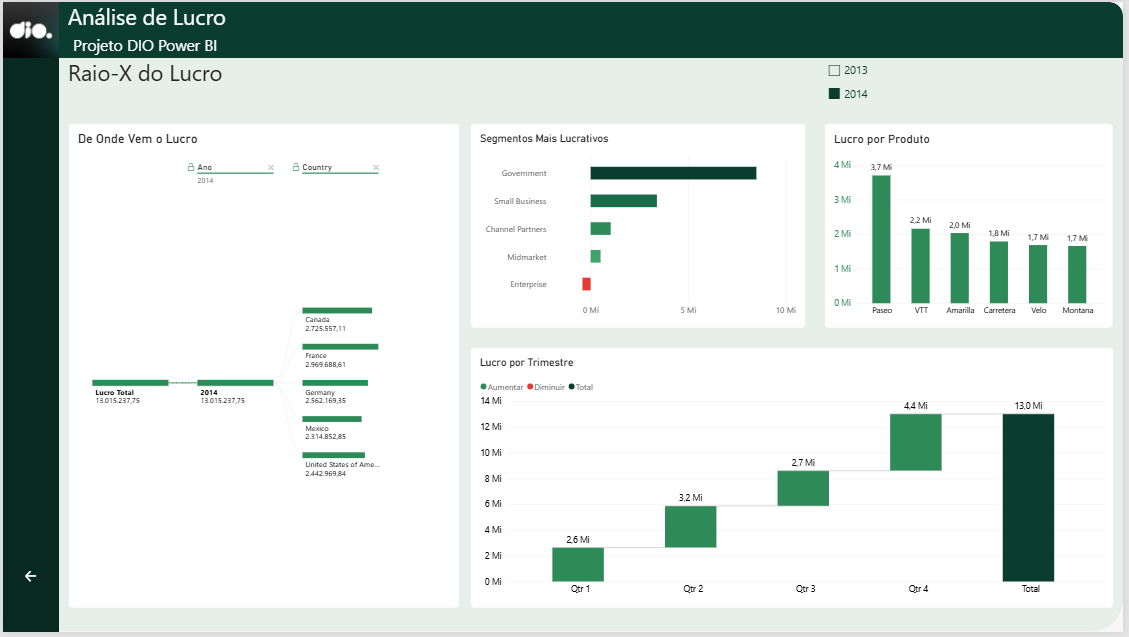

Layout of this report page (visuals, bound fields, positions):
{"tool":"powerbi","page":{"name":"Lucro","canvas":[1920,1080],"ordinal":1},"visuals":[{"type":"shape","box":[0,-8,1920,1088],"z":0},{"type":"shape","box":[0,-24,96,1104],"z":1000},{"type":"shape","box":[96,0,1808,96],"z":2000},{"type":"image","title":"Logo-Dio","box":[0,0,96,96],"z":3000},{"type":"textbox","box":[112,0,448,96],"z":4000},{"type":"textbox","box":[112,96,448,64],"z":5000},{"type":"shape","box":[128,96,400,112],"z":6000},{"type":"decompositionTreeVisual","title":"De Onde Vem o Lucro","fields":{"Analyze":["Sum(financials.Profit)"],"ExplainBy":["financials.Date.Variation.Hierarquia de datas.Ano","financials.Country"]},"box":[112,208,672,832],"z":7000},{"type":"clusteredBarChart","title":"Segmentos Mais Lucrativos","fields":{"Category":["financials.Segment"],"Y":["Sum(financials.Profit)"]},"box":[800,208,576,352],"z":8000},{"type":"clusteredColumnChart","title":"Lucro por Produto","fields":{"Category":["financials.Product"],"Y":["Sum(financials.Profit)"]},"box":[1408,208,496,352],"z":9000},{"type":"waterfallChart","title":"Lucro por Trimestre","fields":{"Category":["financials.Date.Variation.Hierarquia de datas.Trimestre"],"Y":["Sum(financials.Profit)"]},"box":[800,592,1104,448],"z":10000},{"type":"actionButton","box":[0,944,96,80],"z":11000},{"type":"slicer","fields":{"Values":["financials.Date.Variation.Hierarquia de datas.Ano"]},"box":[1408,96,496,112],"z":12000}]}

Visuals, with their boxes in screenshot pixels (x1, y1, x2, y2), scaled from the page's 1920x1080 canvas onto the 1129x637 screenshot:
shape: bbox=[0, 0, 1128, 636]
shape: bbox=[0, 0, 56, 636]
shape: bbox=[56, 0, 1120, 57]
"Logo-Dio" image: bbox=[0, 0, 56, 57]
textbox: bbox=[66, 0, 329, 57]
textbox: bbox=[66, 57, 329, 94]
shape: bbox=[75, 57, 310, 123]
"De Onde Vem o Lucro" decompositionTreeVisual: bbox=[66, 123, 461, 613]
"Segmentos Mais Lucrativos" clusteredBarChart: bbox=[470, 123, 809, 330]
"Lucro por Produto" clusteredColumnChart: bbox=[828, 123, 1120, 330]
"Lucro por Trimestre" waterfallChart: bbox=[470, 349, 1120, 613]
actionButton: bbox=[0, 557, 56, 604]
slicer - financials.Date.Variation.Hierarquia de datas.Ano: bbox=[828, 57, 1120, 123]
